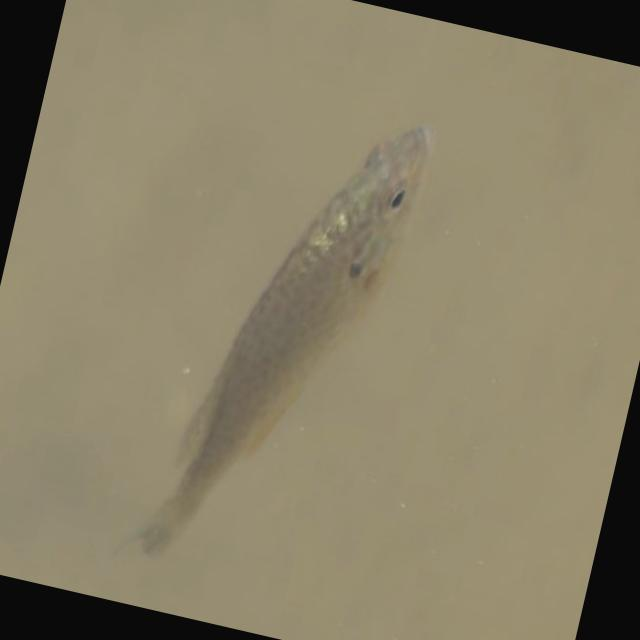Gunes Levregi: (106, 53, 460, 618)
